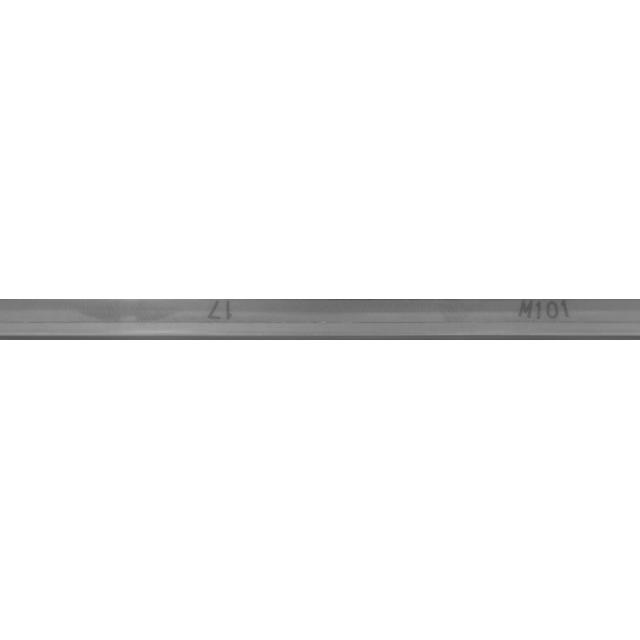mohao: (455, 270, 640, 370)
xuehao: (124, 270, 324, 370)
